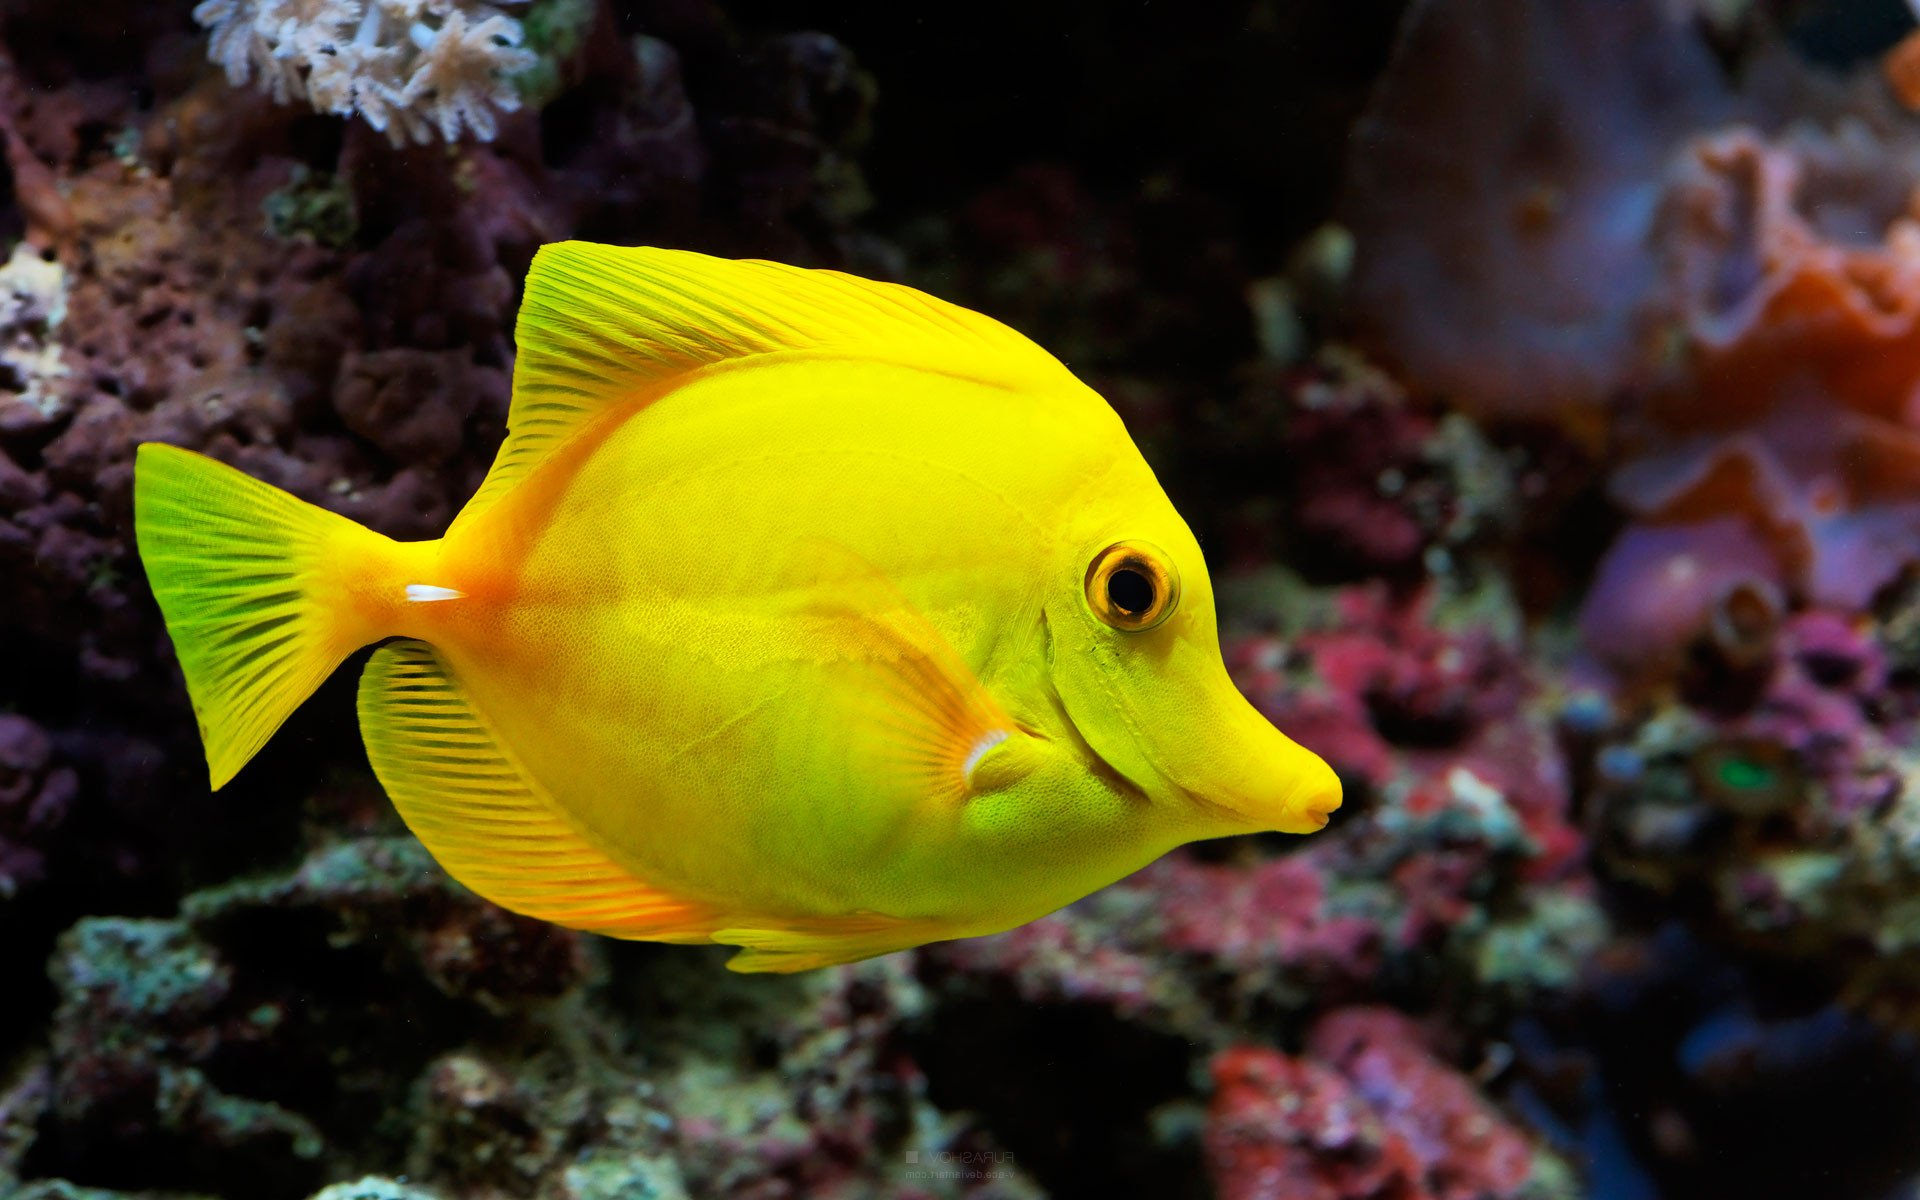fish: (95, 236, 1344, 1013)
